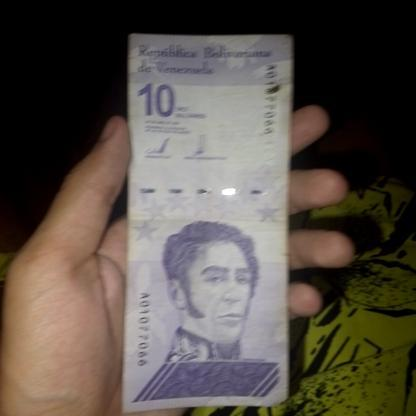ten-front-vef: (121, 36, 288, 416)
